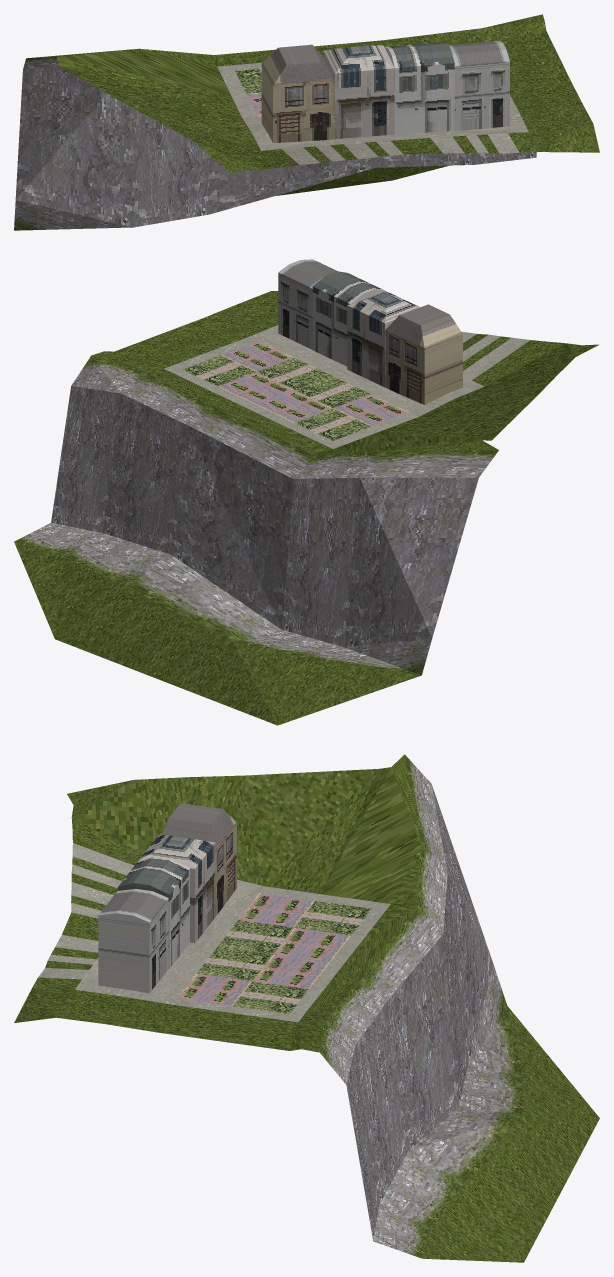
Rendered from lod_sfw_boxwest01.obj.
3 renders of one model, top to bottom at view 1: azimuth 30°, elevation 25°; view 2: azimuth 150°, elevation 25°; view 3: azimuth 270°, elevation 25°, orthographic. The views are drawn at different scales.
Parts seen in each view (by area): view 1: lod_sfw_boxwest01; view 2: lod_sfw_boxwest01; view 3: lod_sfw_boxwest01.
Part boxes in pixels (x1,y1,x2,y2): lod_sfw_boxwest01: (14,14,599,230); lod_sfw_boxwest01: (14,259,598,725); lod_sfw_boxwest01: (14,754,599,1262).
Bounding box in the file's own units: 69.2 × 38.26 × 63.48.
Materials: 10 (10 with a texture image).
